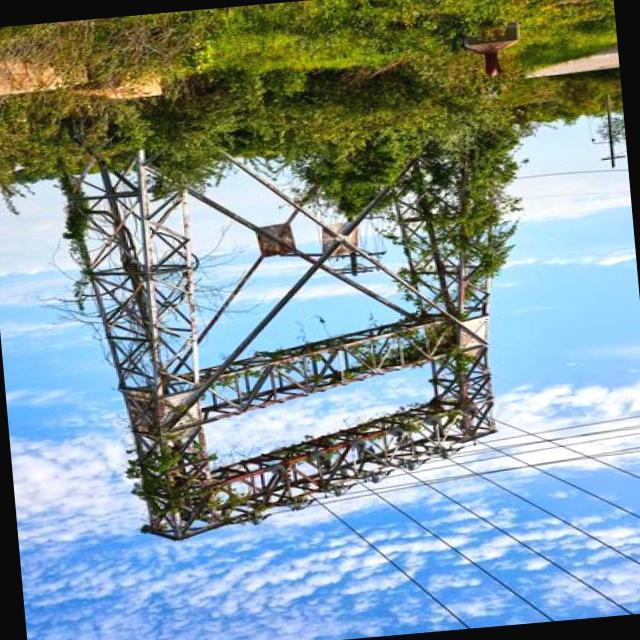critical vegetation: (388, 146, 536, 305), (135, 424, 227, 545)
